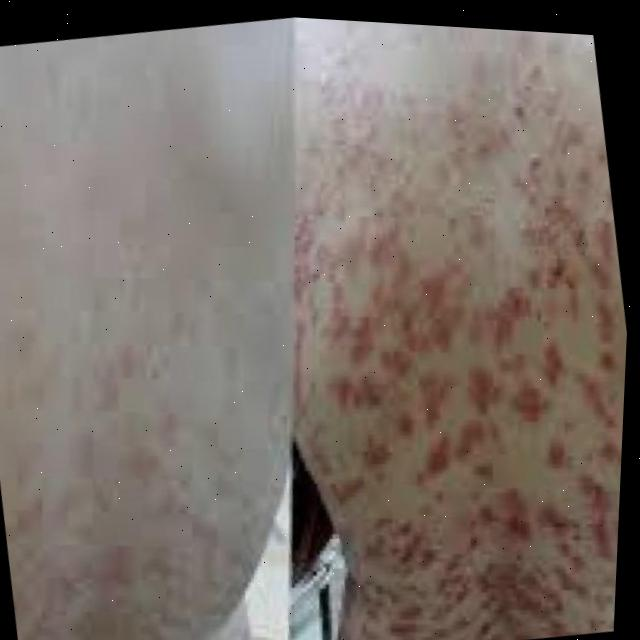Eczema: (191, 13, 640, 640), (40, 406, 200, 640)
